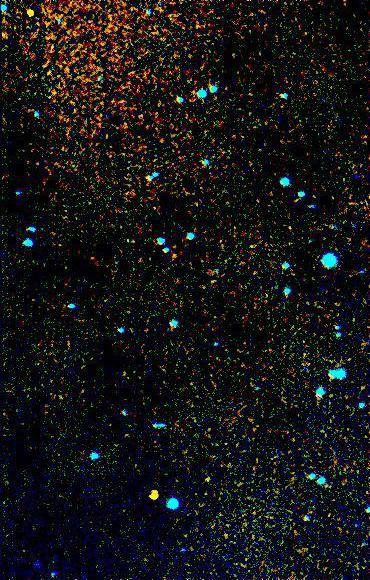star: (137, 472, 167, 502)
